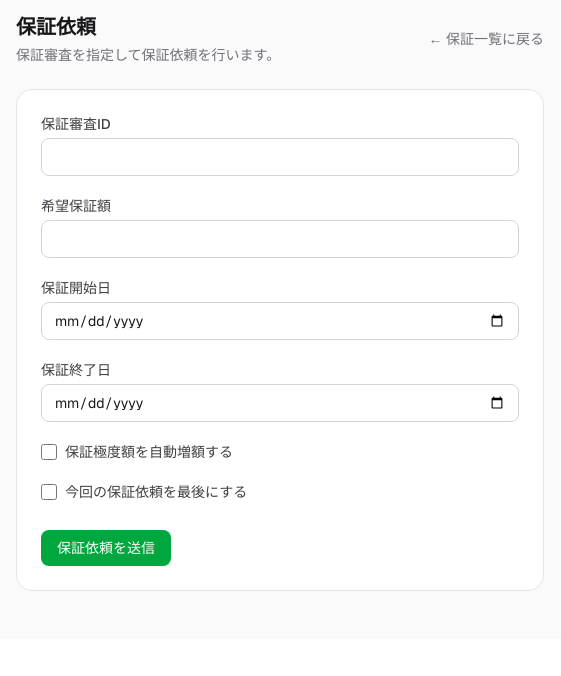
it: GuaranteeNewPage › 通信エラー時にエラーメッセージを表示する
This screenshot has width=561, height=676.
Type "12345" into the number field labelled "保証審査ID".
click(280, 157); type("12345")  # box [41,138,519,176]
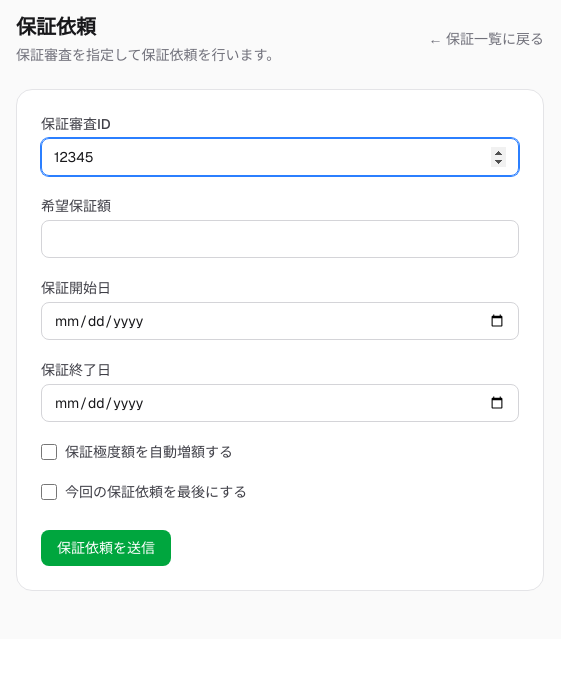
Type "1000000" into the number field labelled "希望保証額".
click(280, 239); type("1000000")  # box [41,220,519,258]
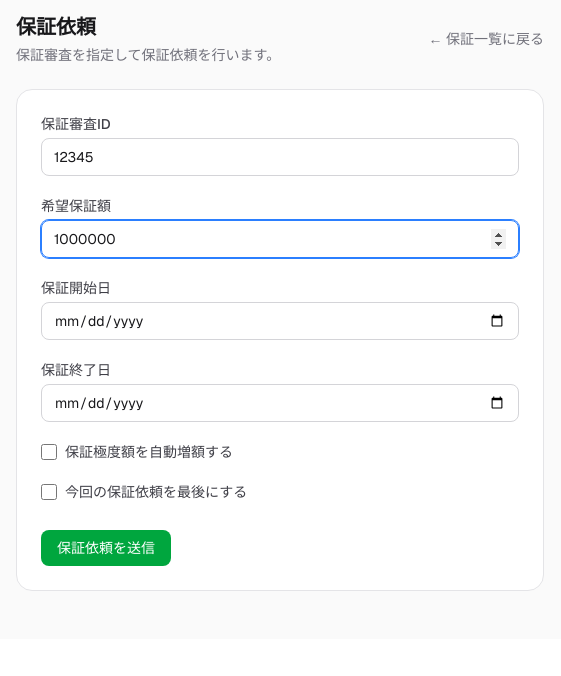
Type "2023-03-27" into the date field labelled "保証開始日".
click(280, 321); type("2023-03-27")  # box [41,302,519,340]
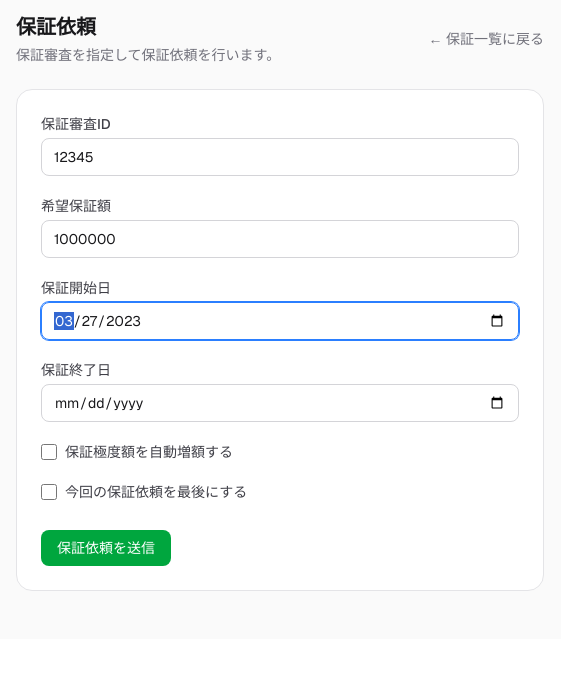
Type "2023-04-27" into the date field labelled "保証終了日".
click(280, 403); type("2023-04-27")  # box [41,384,519,422]
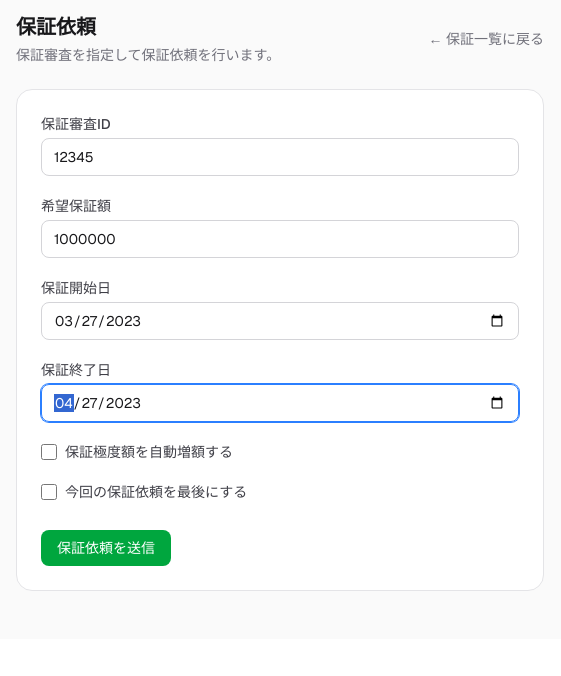
Click the button "保証依頼を送信".
click(106, 548)  # box [41,530,171,566]
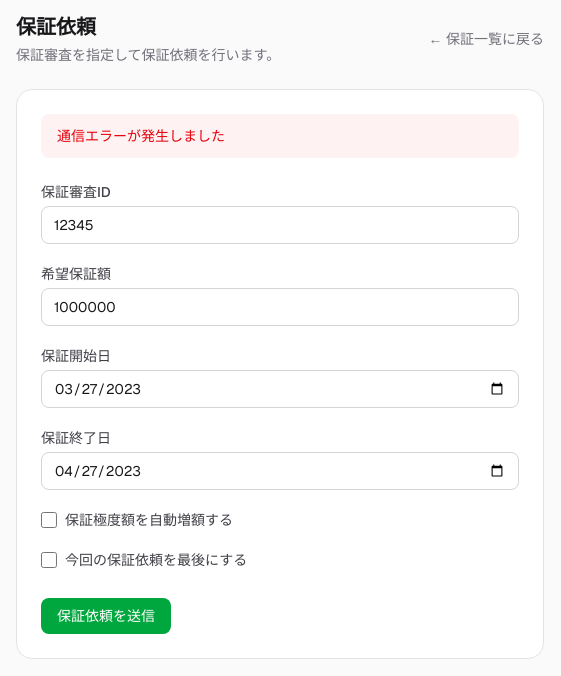
Expected: the text "通信エラーが発生しました" is shown, [41,114,519,158]
